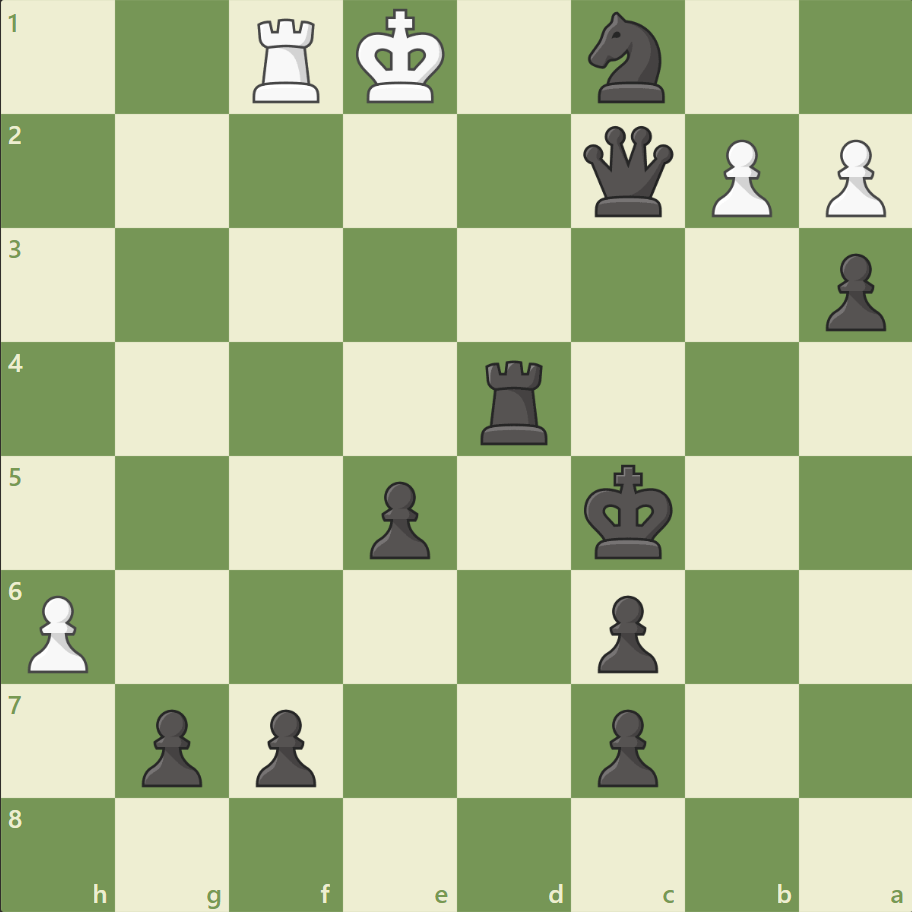K: (351, 4, 451, 112)
P: (20, 586, 95, 677), (701, 132, 776, 223), (815, 132, 889, 223)
R: (246, 12, 329, 109)
k: (579, 458, 679, 566)
n: (579, 7, 676, 110)
p: (247, 700, 322, 791), (133, 700, 208, 791), (588, 700, 662, 791), (588, 586, 662, 677), (361, 473, 435, 564), (815, 246, 889, 337)
q: (578, 122, 677, 222)
r: (473, 352, 556, 449)
